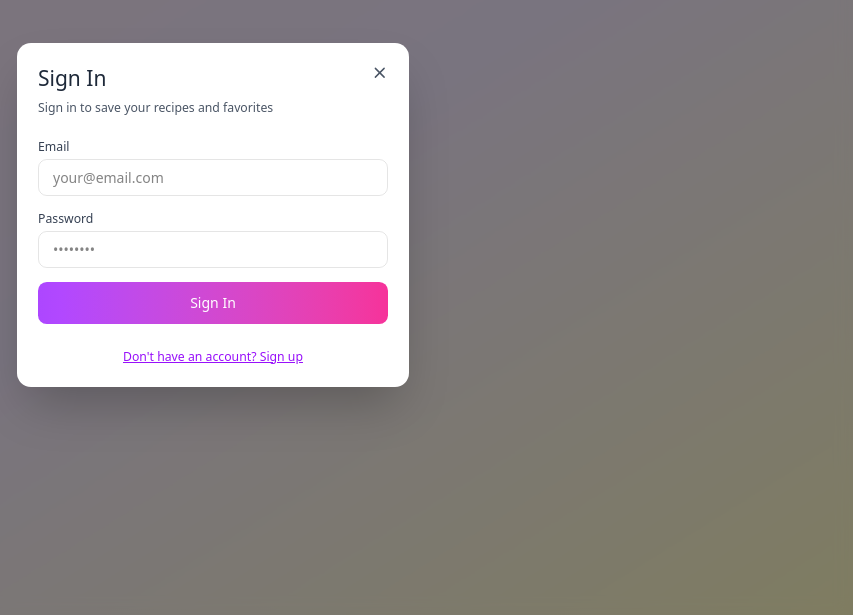
AuthModal › should display error message on sign in failure
Type "test@example.com" into the field labelled "Email".
click(213, 177); type("test@example.com")  # box [38,159,388,196]
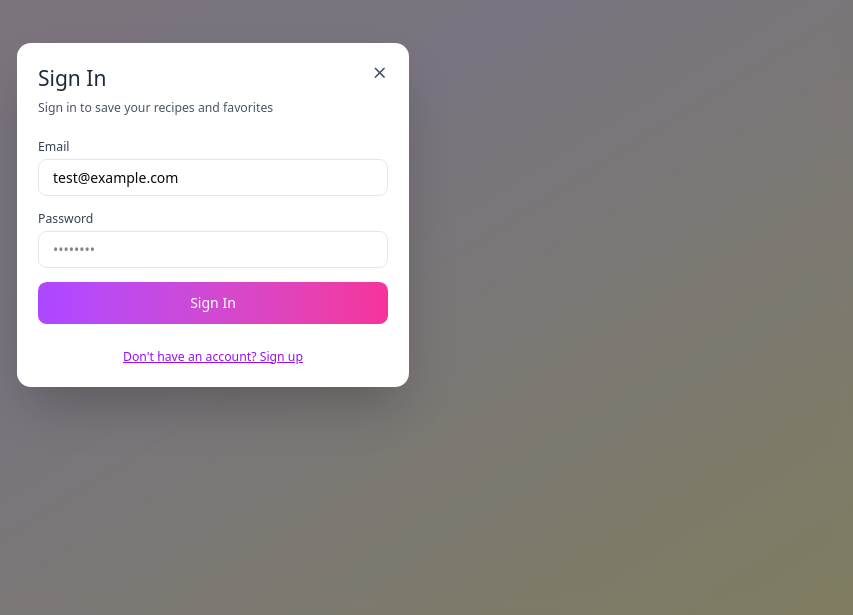
Type "wrongpassword" into the password field labelled "Password".
click(213, 249); type("wrongpassword")  # box [38,231,388,268]
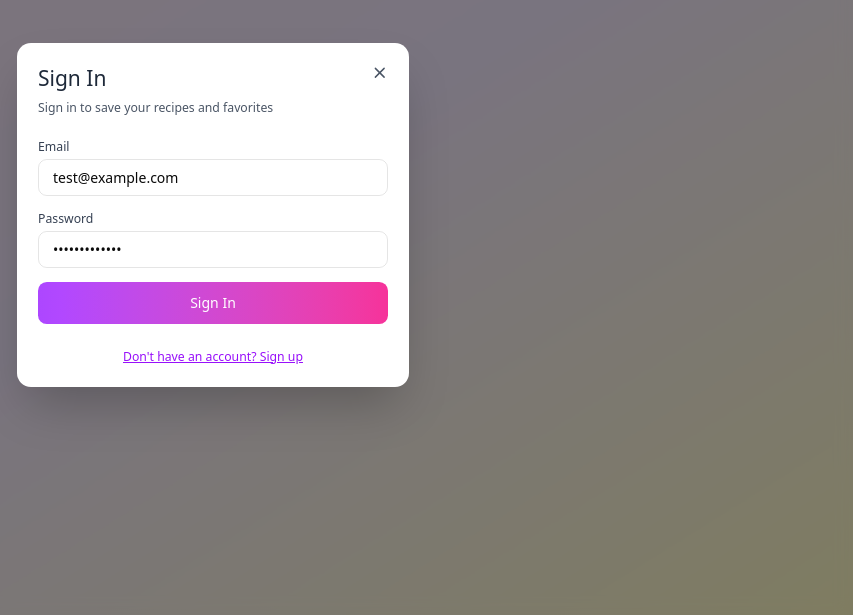
Click the button "Sign In".
click(213, 303)  # box [38,282,388,324]
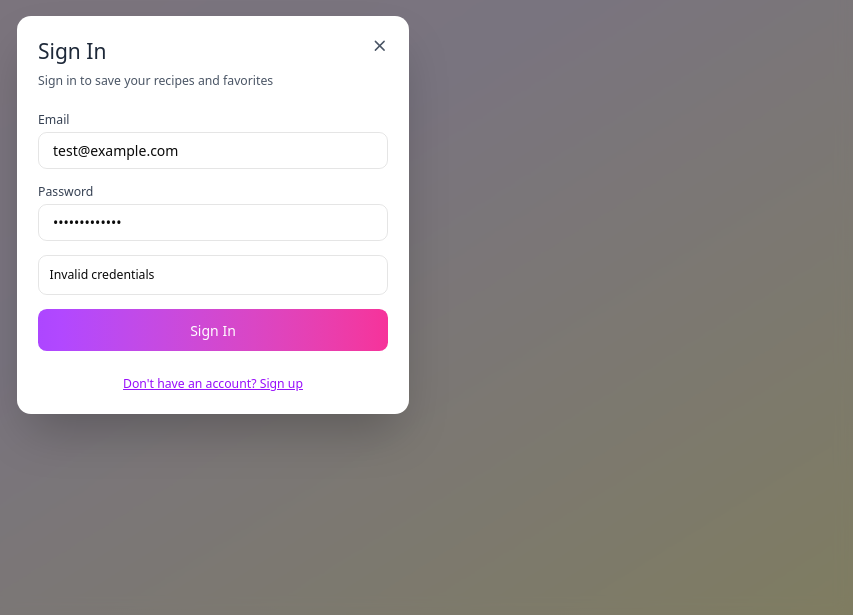
Check: the text "Invalid credentials" is shown, box [38,254,388,295]
